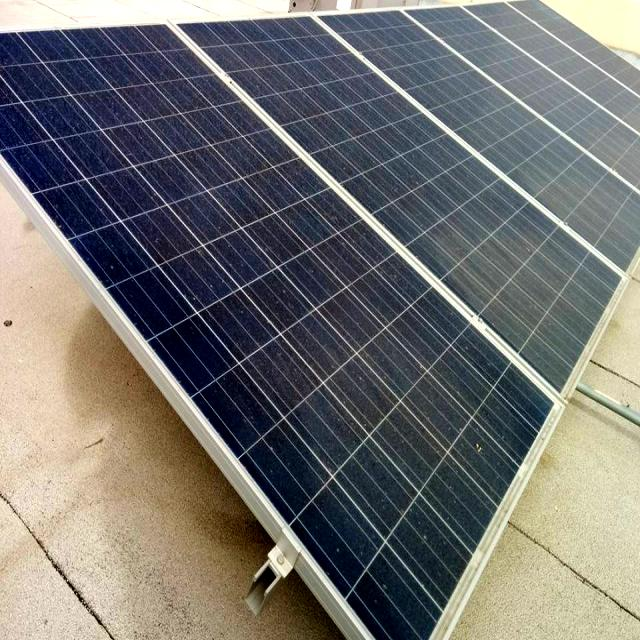dust: (410, 154, 582, 358), (190, 262, 390, 412), (242, 46, 405, 209), (331, 371, 477, 528), (37, 29, 165, 208)
